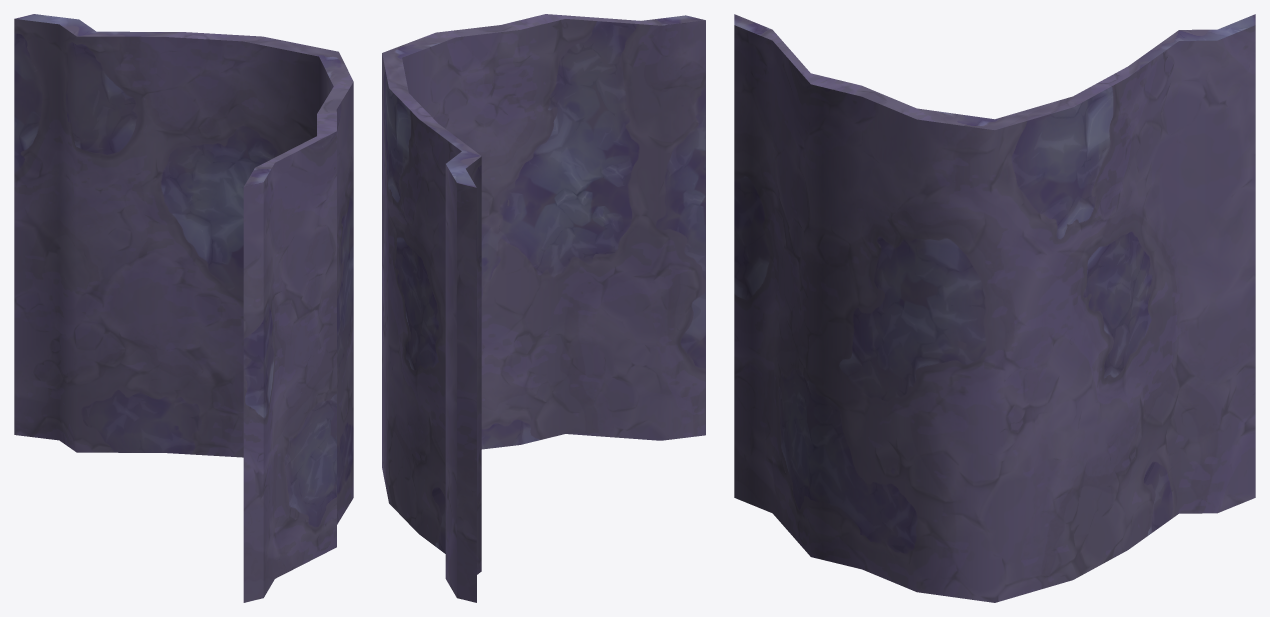
Rendered from concavewall_textured_rae.fbx.
3 renders of one model, left to right at view 1: azimuth 30°, elevation 25°; view 2: azimuth 150°, elevation 25°; view 3: azimuth 270°, elevation 25°, orthographic. The views are drawn at different scales.
Parts seen in each view (by area): view 1: ConcaveWall; view 2: ConcaveWall; view 3: ConcaveWall.
Boxes of the visible parts, x1,y1,x2,y2 form: ConcaveWall: (14,14,353,602); ConcaveWall: (382,14,705,602); ConcaveWall: (734,14,1255,602).
Bounding box in the file's own units: 1.06 × 2 × 2.
1 material, 1 textured.
